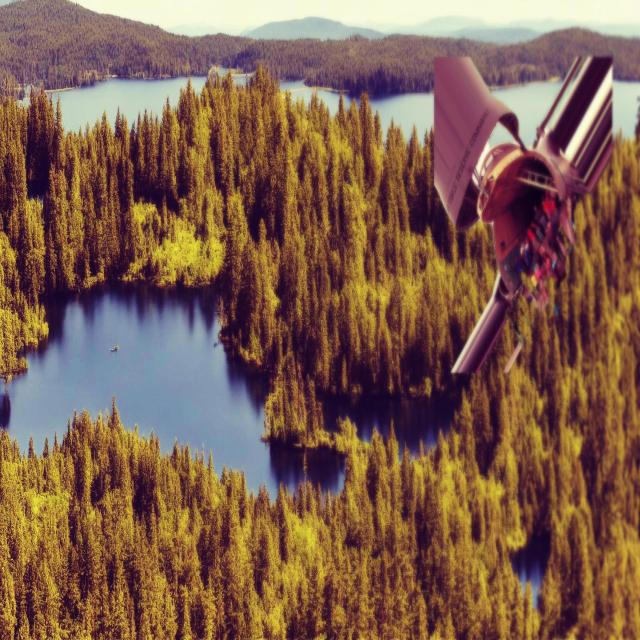airplane: (432, 51, 614, 377)
